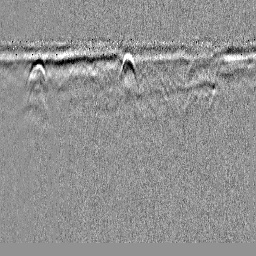cavity: (116, 51, 139, 91)
